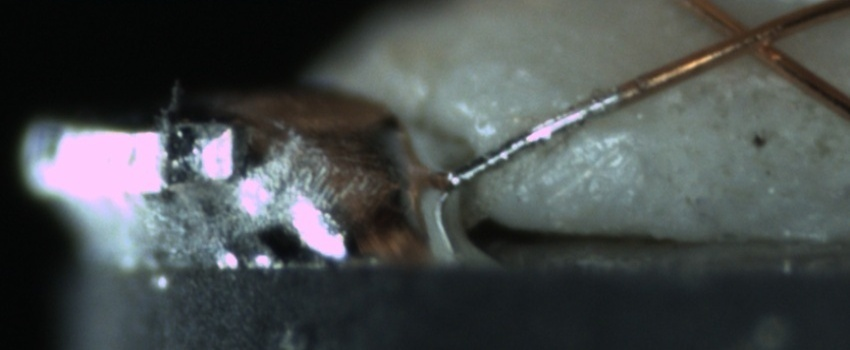CL: (707, 5, 801, 68)
TS: (443, 88, 621, 187)
